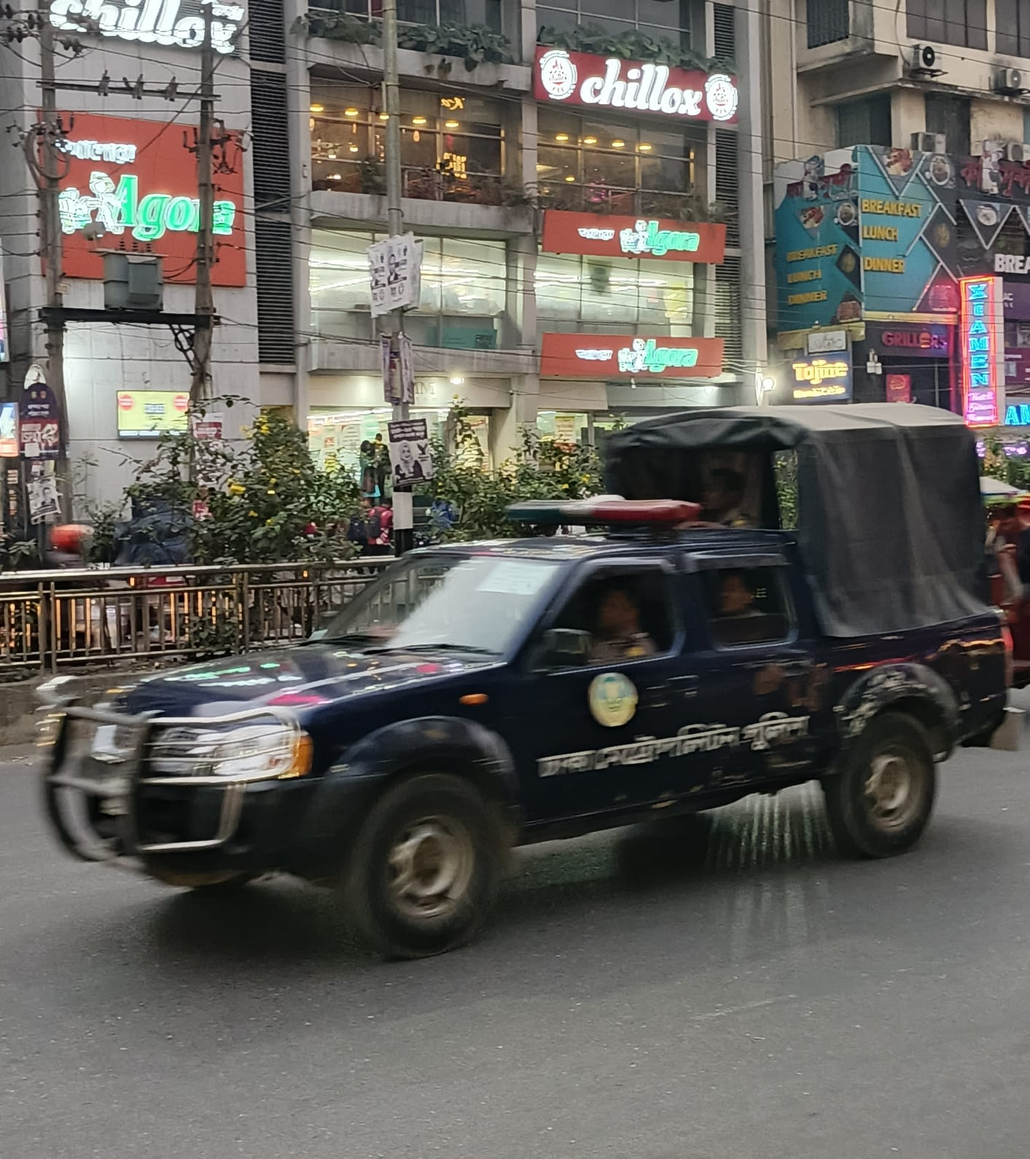Police cars: (55, 391, 1029, 946)
